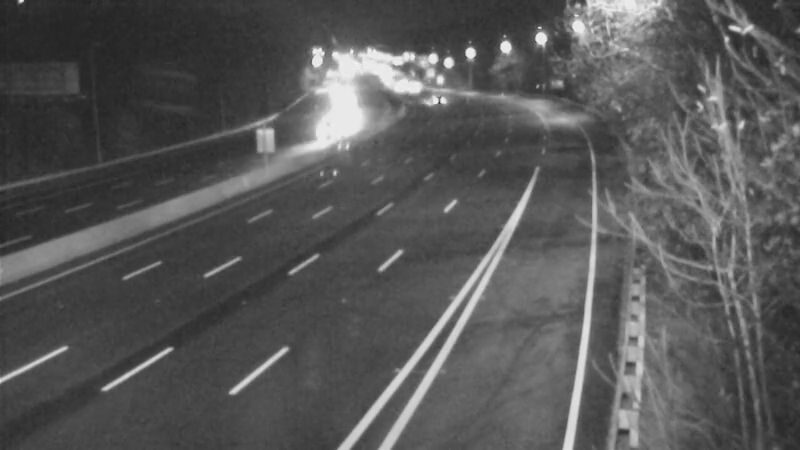vehicle: (388, 62, 438, 112), (407, 71, 457, 121), (306, 110, 356, 160)
